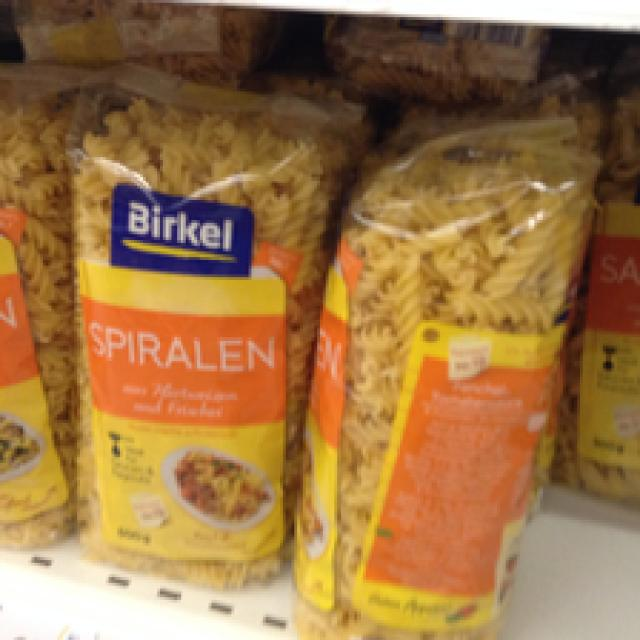groceries: (292, 106, 597, 634), (60, 71, 334, 583)
